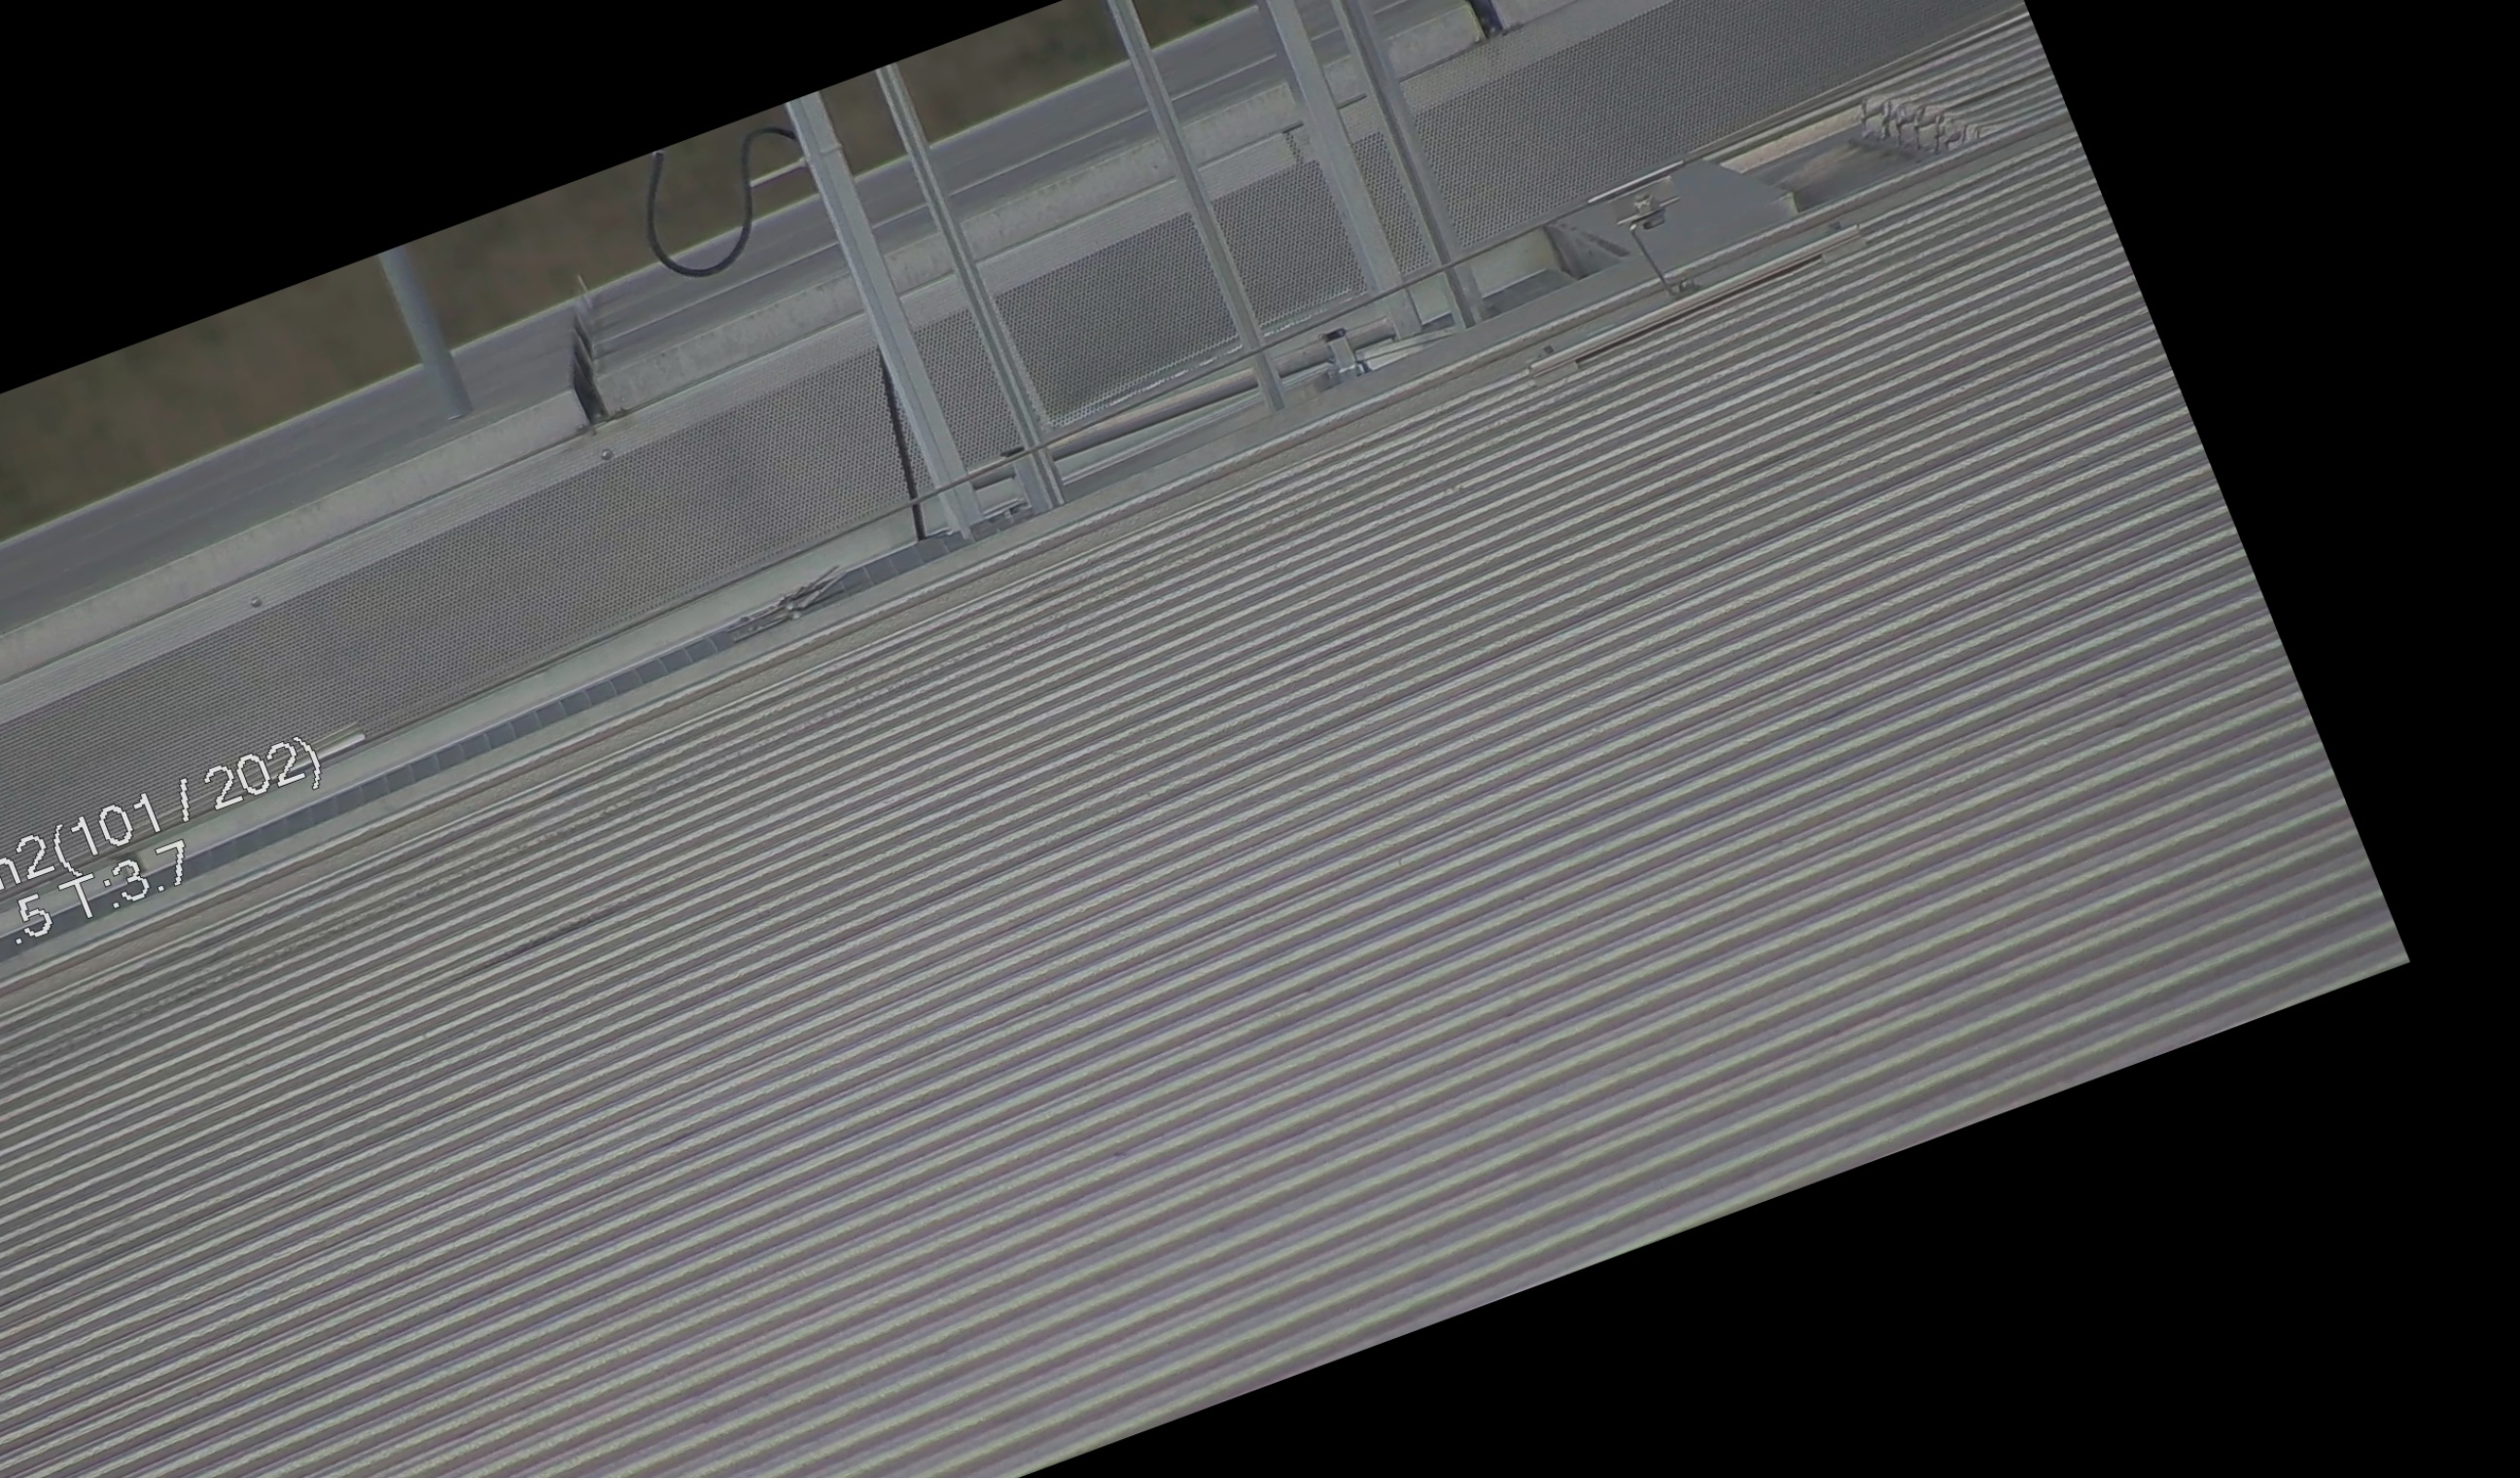Other: (1410, 0, 1537, 53)
